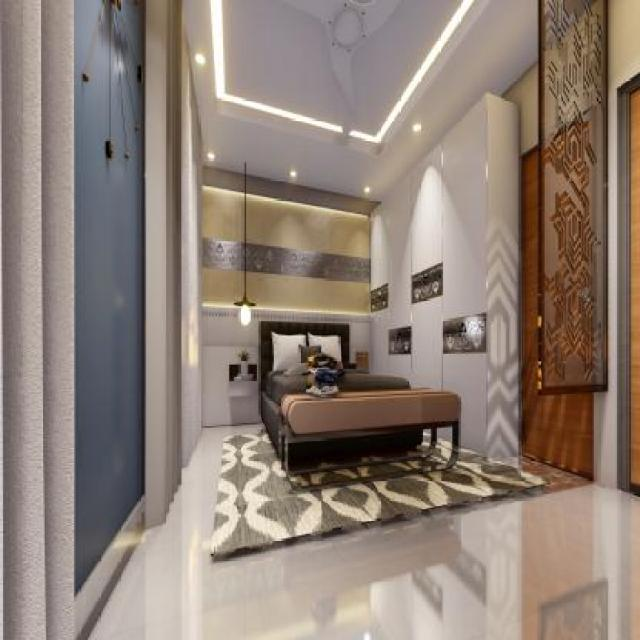Floor: (87, 423, 640, 640)
